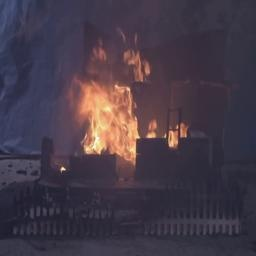fire: (64, 35, 154, 153)
